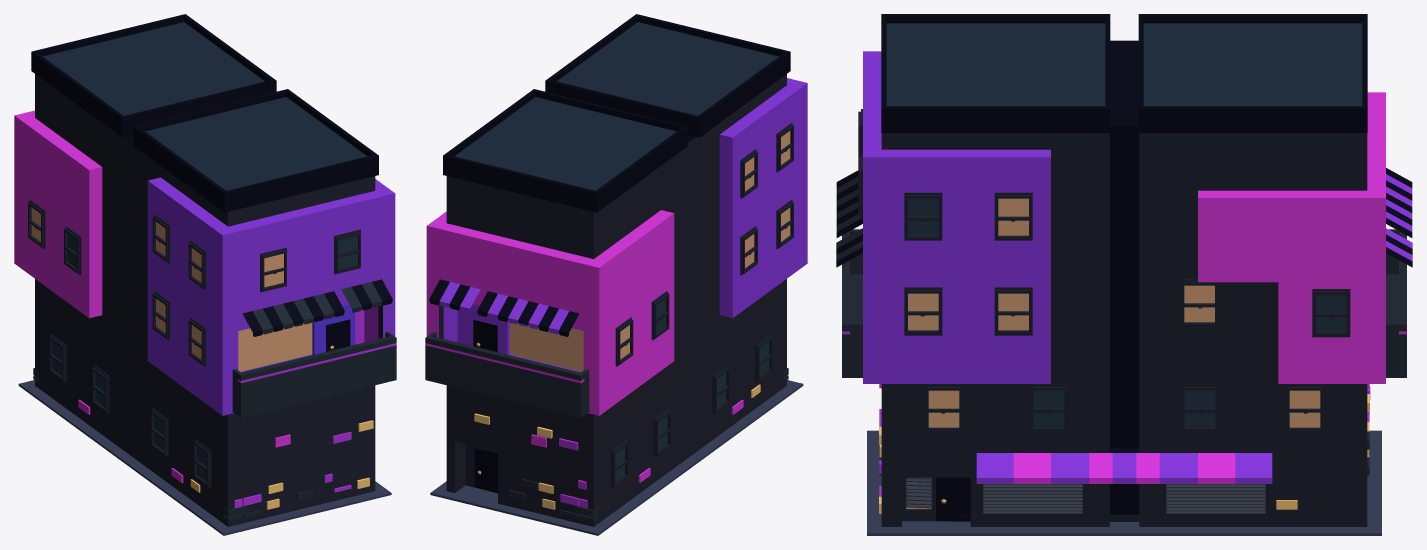
Rendered from Building_MintApartment02.fbx.
The picture shows the model from 3 angles, left to right: view 1: azimuth 30°, elevation 25°; view 2: azimuth 150°, elevation 25°; view 3: azimuth 270°, elevation 25°; orthographic projection. The views are drawn at different scales.
Parts seen in each view (by area): view 1: Cube.764, Cube.771; view 2: Cube.764, Cube.772, Cube.773; view 3: Cube.764, Cube.770.
Boxes of the visible parts, box(x1,y1,x2,y2) form: Cube.764: box(14, 14, 396, 535); Cube.771: box(326, 319, 350, 351); Cube.764: box(425, 14, 807, 535); Cube.772: box(474, 448, 497, 493); Cube.773: box(473, 320, 497, 351); Cube.764: box(836, 14, 1412, 535); Cube.770: box(936, 477, 970, 521).
Size of the model in its own units: 671 by 1211 by 1495.
